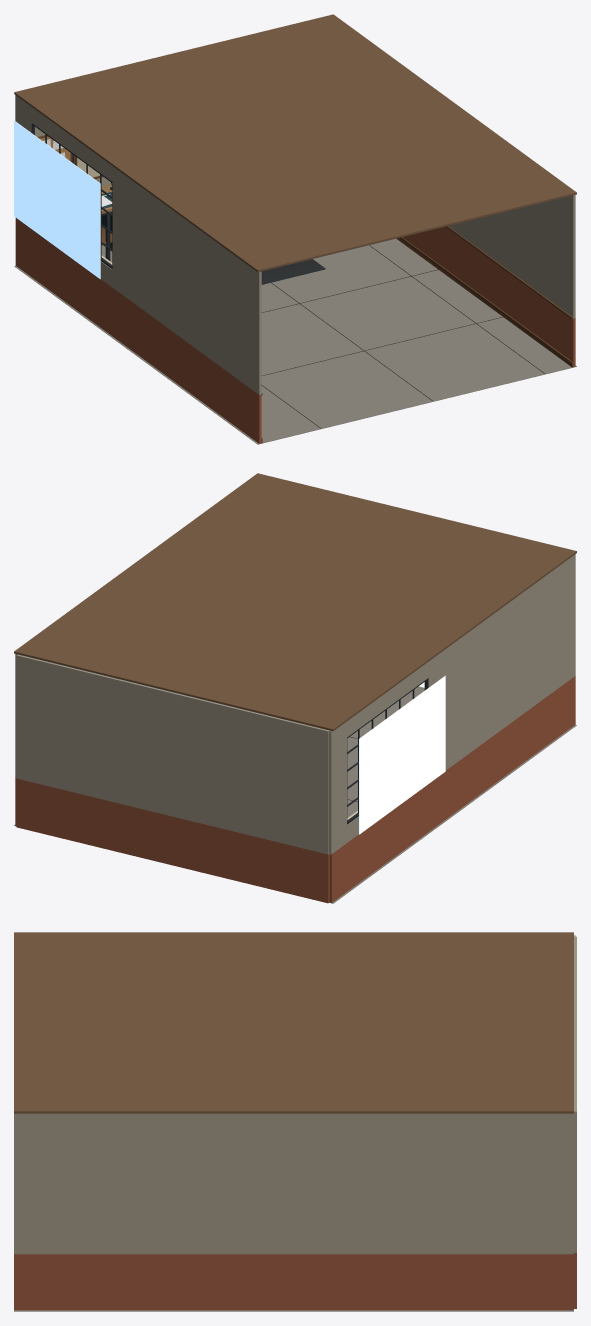
The model's file is workshop.glb.
3 renders of one model, top to bottom at view 1: azimuth 30°, elevation 25°; view 2: azimuth 150°, elevation 25°; view 3: azimuth 270°, elevation 25°, orthographic. The views are drawn at different scales.
Visible parts, largest first — view 1: shell__ceiling_boards, shell__floor, shell__wall_brick, shell__wall_dado, shell__dusk_sky, shell__wood_dark, shell__joint, props__mat, shell__steel_dark; view 2: shell__ceiling_boards, shell__wall_brick, shell__wall_dado, shell__dusk_sky, shell__floor, shell__steel_dark; view 3: shell__ceiling_boards, shell__wall_brick, shell__wall_dado, shell__floor.
Boxes of the visible parts, left/top/right/bottom form: shell__ceiling_boards: left=14, top=14, right=576, bottom=272; shell__floor: left=14, top=238, right=576, bottom=444; shell__wall_brick: left=15, top=95, right=575, bottom=394; shell__wall_dado: left=15, top=218, right=575, bottom=443; shell__dusk_sky: left=14, top=120, right=100, bottom=279; shell__wood_dark: left=261, top=226, right=573, bottom=442; shell__joint: left=261, top=245, right=544, bottom=428; props__mat: left=261, top=259, right=325, bottom=284; shell__steel_dark: left=31, top=123, right=112, bottom=269; shell__ceiling_boards: left=14, top=473, right=576, bottom=731; shell__wall_brick: left=15, top=554, right=575, bottom=854; shell__wall_dado: left=15, top=676, right=575, bottom=903; shell__dusk_sky: left=359, top=675, right=445, bottom=834; shell__floor: left=14, top=686, right=576, bottom=903; shell__steel_dark: left=347, top=678, right=428, bottom=824; shell__ceiling_boards: left=14, top=932, right=573, bottom=1113; shell__wall_brick: left=14, top=935, right=576, bottom=1254; shell__wall_dado: left=14, top=1253, right=576, bottom=1310; shell__floor: left=14, top=1310, right=573, bottom=1311.
Bounding box in the file's own units: 17.81 × 8.92 × 22.72.
